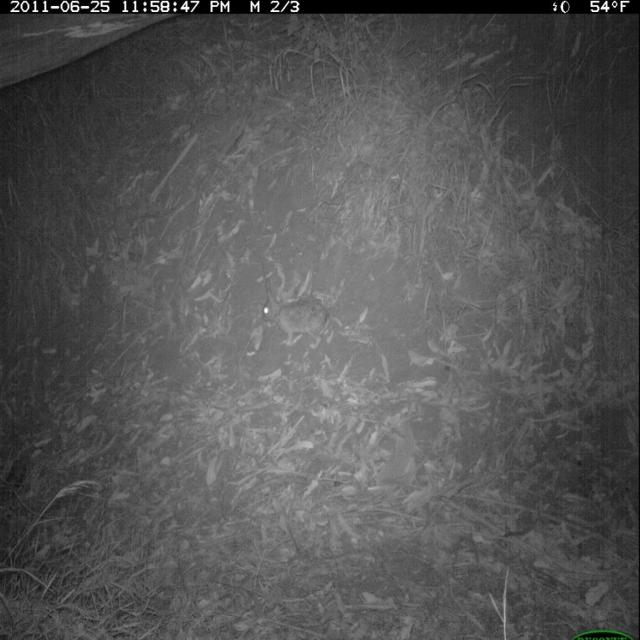rabbit: (258, 267, 331, 362)
